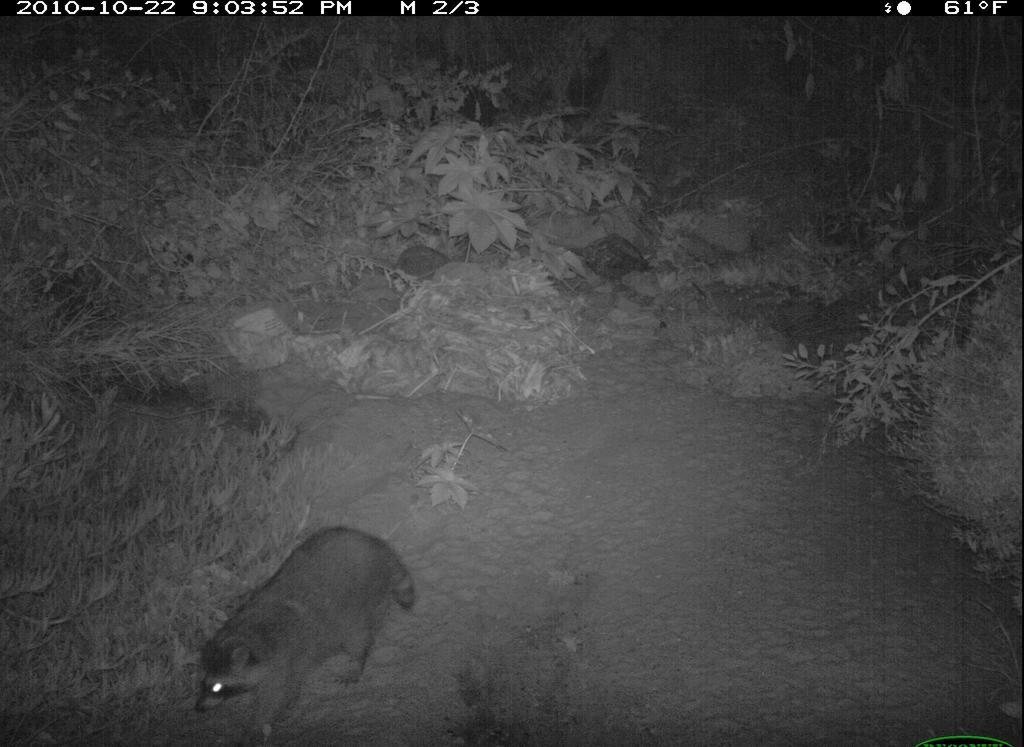raccoon: (176, 515, 427, 744)
